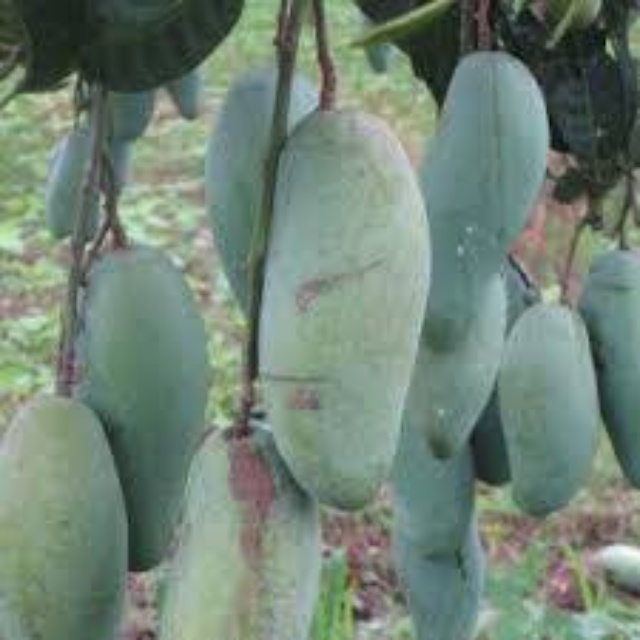thanh_long: (253, 105, 427, 514), (53, 247, 214, 570), (424, 47, 556, 355), (499, 293, 607, 525)
